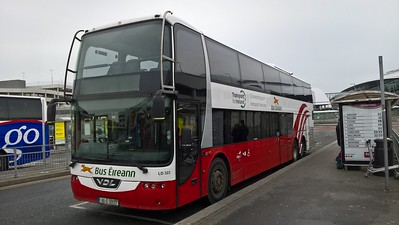bus: (69, 14, 313, 211)
